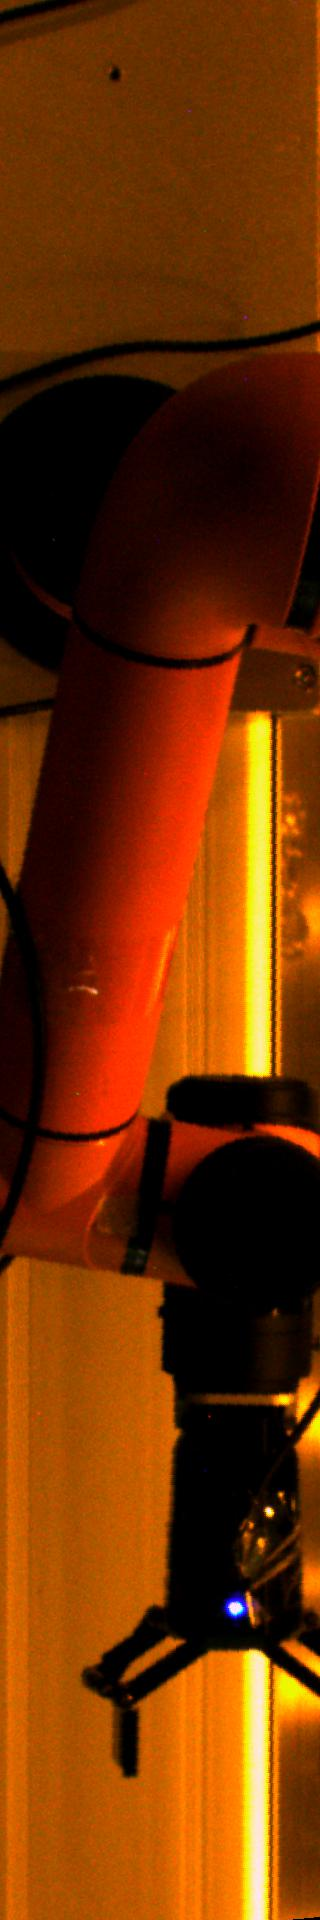keyPoint_1: (219, 1589, 250, 1620)
keyPoint_2: (99, 59, 129, 89)
